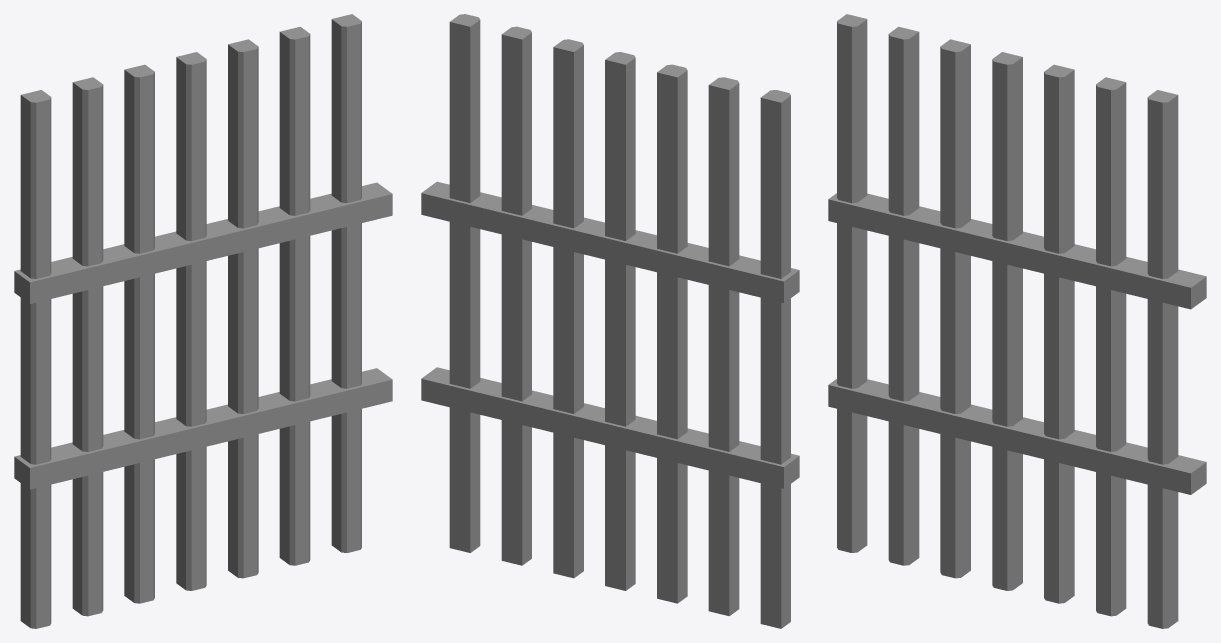
Rendered from portaGrade.fbx.
3 renders of one model, left to right at view 1: azimuth 30°, elevation 25°; view 2: azimuth 150°, elevation 25°; view 3: azimuth 330°, elevation 25°, orthographic.
Visible parts, largest first — view 1: PortaGrades.001; view 2: PortaGrades.001; view 3: PortaGrades.001.
Boxes of the visible parts, left/top/right/bottom form: PortaGrades.001: left=14, top=14, right=392, bottom=628; PortaGrades.001: left=421, top=14, right=799, bottom=628; PortaGrades.001: left=828, top=14, right=1206, bottom=628.
Size of the model in its own units: 142 by 197 by 10.64.
